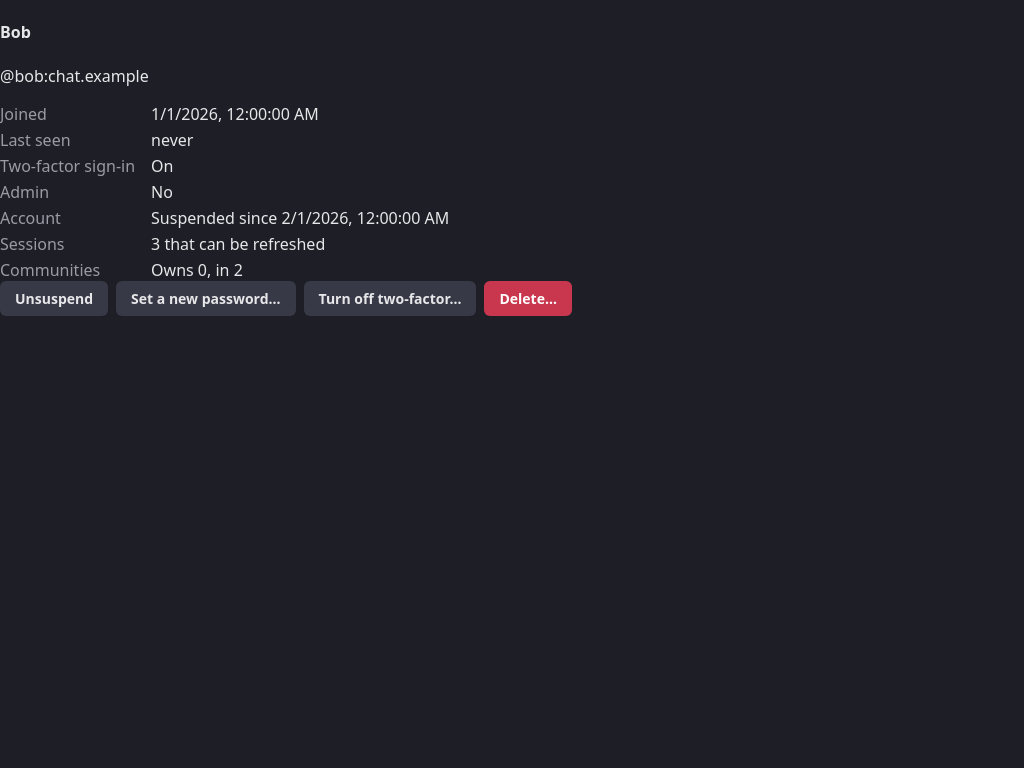
Scenario: doing something › asks to confirm it is them first, then does it with the sudo token, and shows the account as it is now
The image size is (1024, 768).
Click the button "Unsuspend" at (54, 298), box [0, 280, 108, 316]
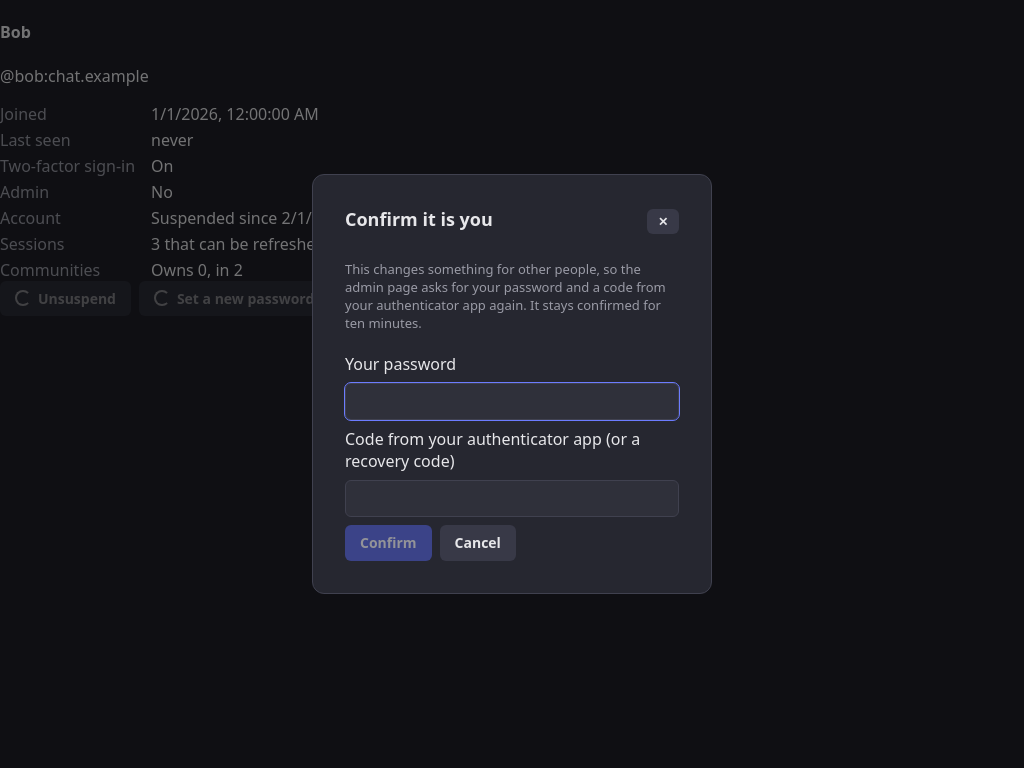
Type "pw" into the password field labelled "Your password" at (512, 402), box [345, 383, 679, 420]
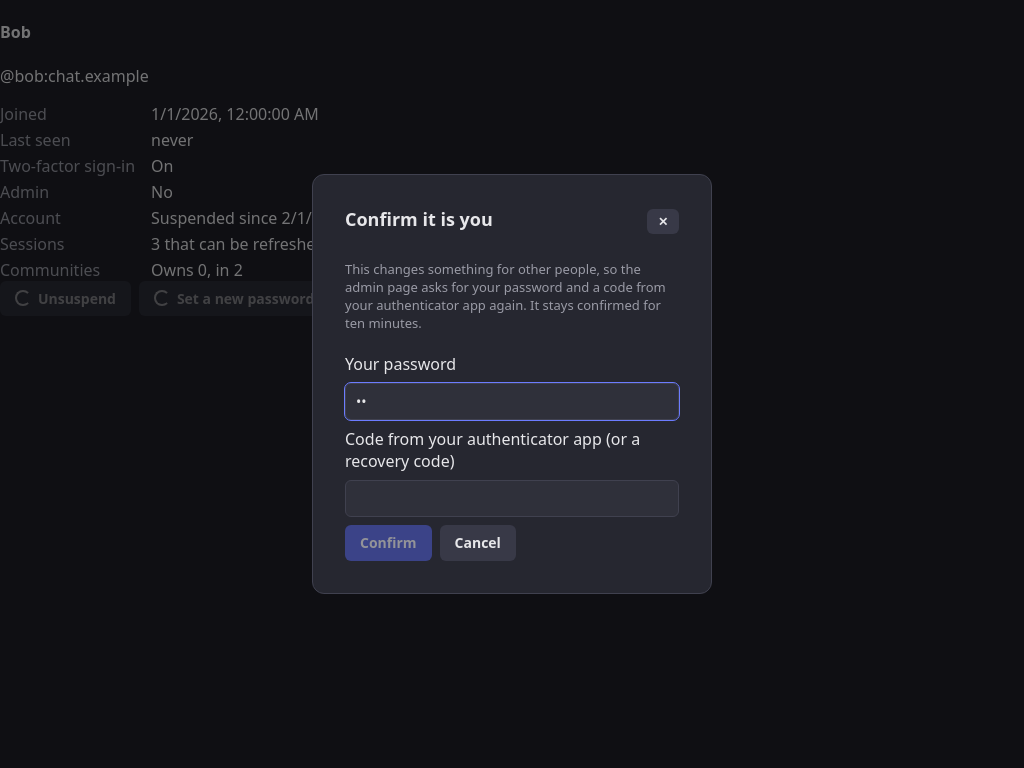
Type "123456" into the field labelled "Code from your authenticator app (or a recovery code)" at (512, 499), box [345, 480, 679, 517]
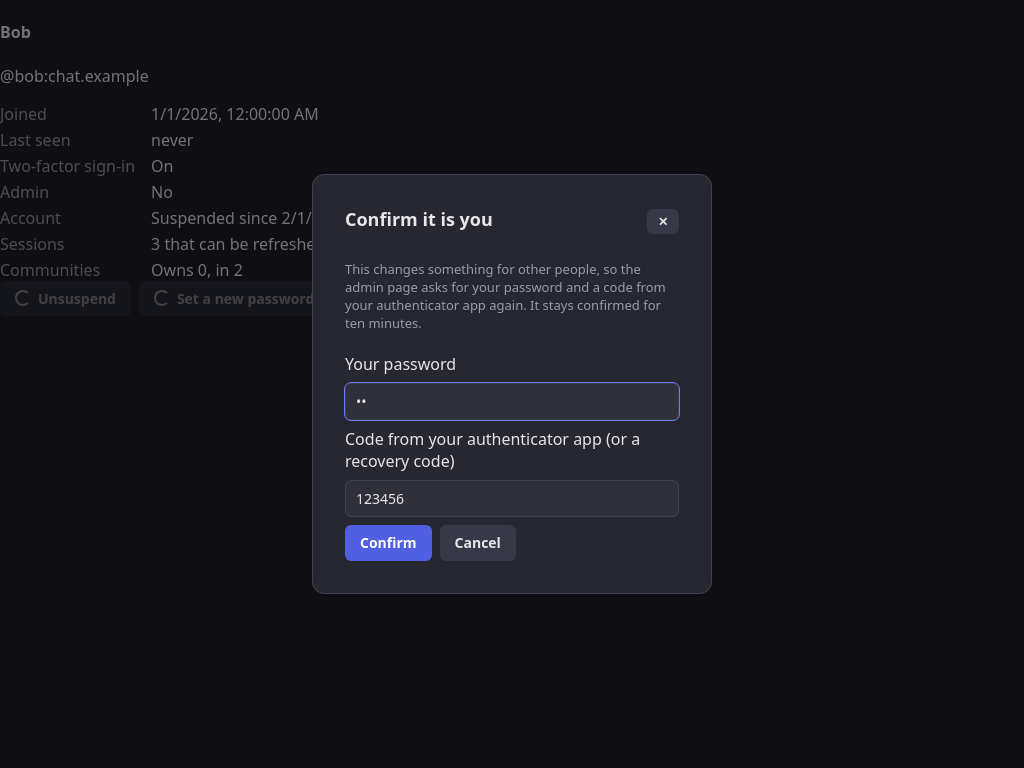
Click the button "Confirm" at (388, 543), box [345, 525, 432, 561]
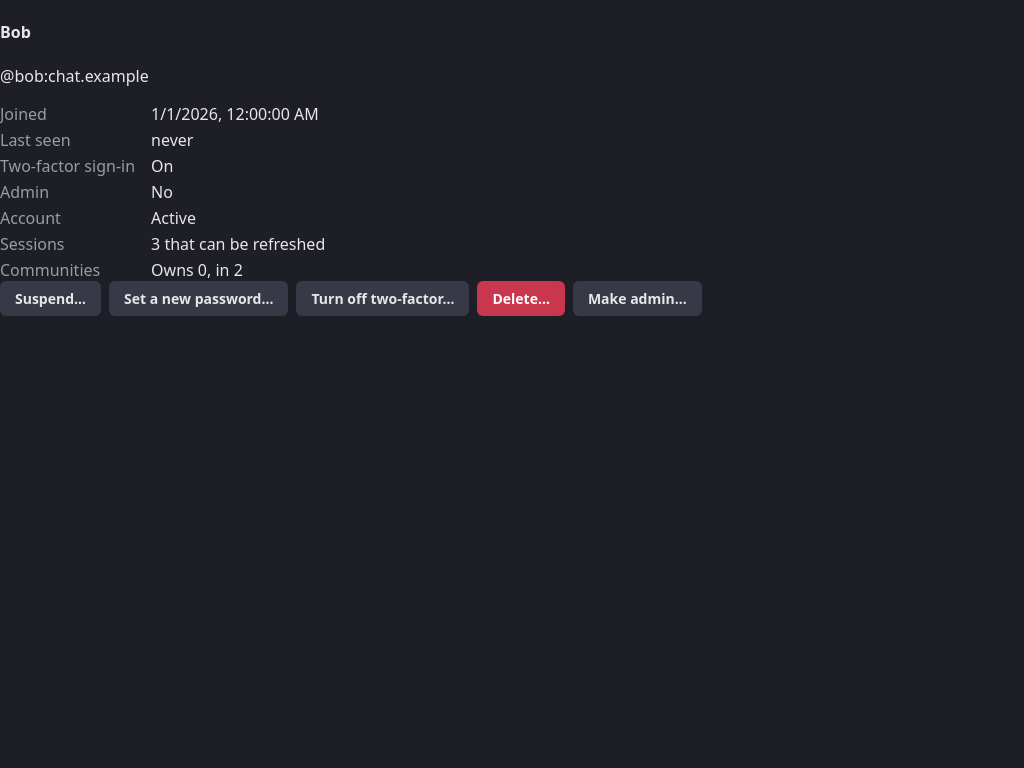
Now the heading "Confirm it is you" is gone
Now the button "Suspend…" is shown, box [0, 280, 101, 316]
